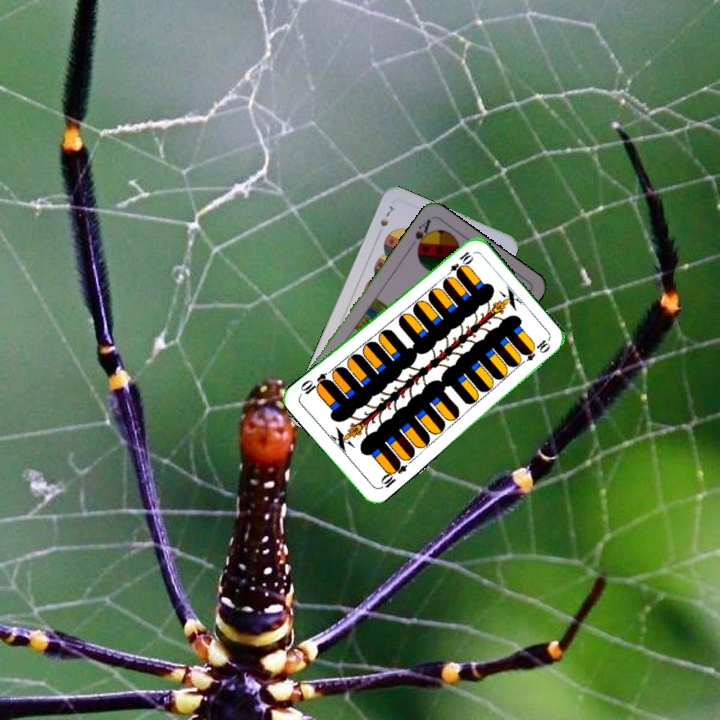E10: (375, 457, 409, 492), (442, 247, 475, 281)
S7: (376, 201, 396, 229)
SA: (406, 215, 435, 254)
